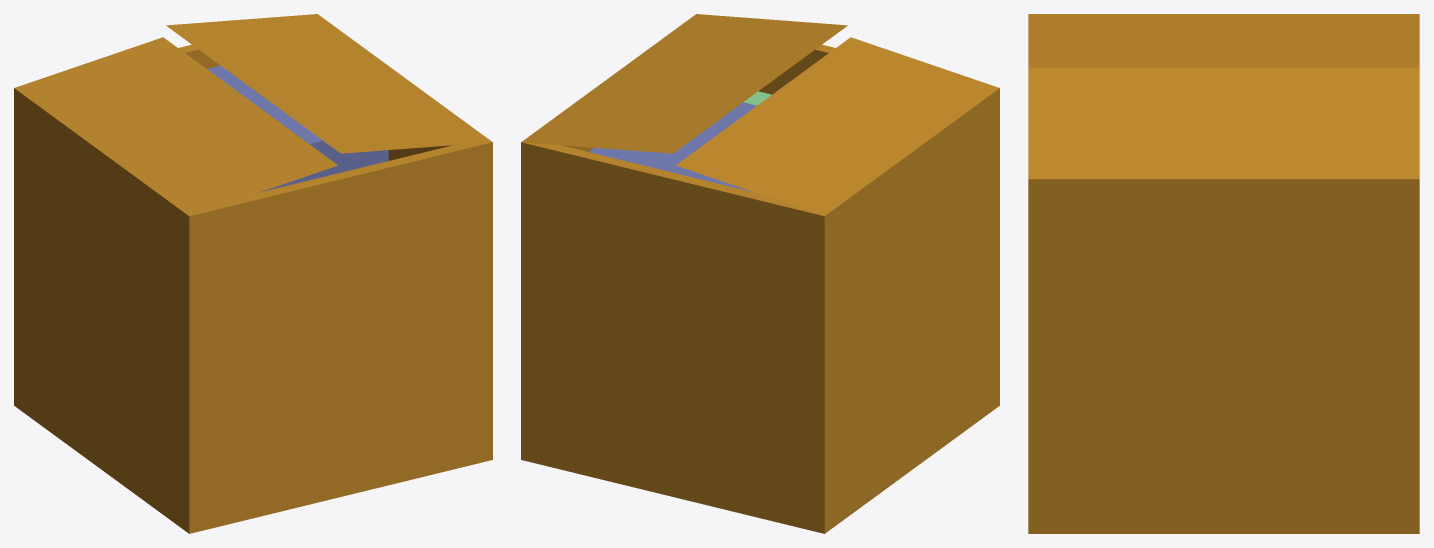
The model's file is Karton doos.fbx.
3 views of the same model, side by side, from view 1: azimuth 30°, elevation 25°; view 2: azimuth 150°, elevation 25°; view 3: azimuth 270°, elevation 25° (orthographic). The views are drawn at different scales.
Visible parts, largest first — view 1: Karton doos; view 2: Karton doos; view 3: Karton doos.
Boxes of the visible parts, x1=… form: Karton doos: x1=14, y1=14, x2=492, y2=533; Karton doos: x1=521, y1=14, x2=999, y2=533; Karton doos: x1=1028, y1=14, x2=1419, y2=533.
Size of the model in its own units: 35.31 by 38.16 by 35.31.
